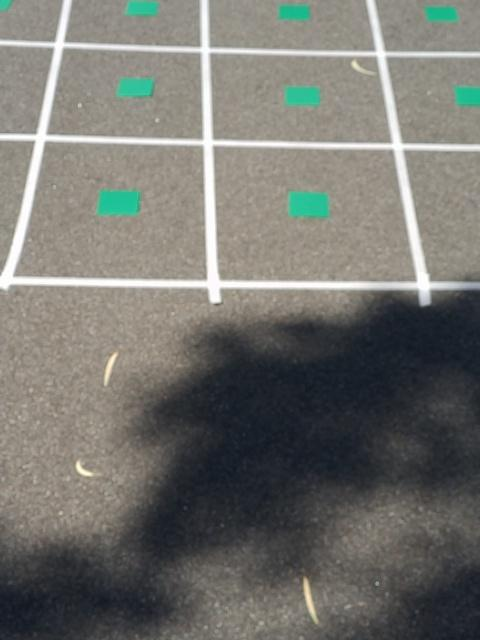weed: (283, 188, 334, 220), (94, 186, 142, 219), (114, 74, 158, 101), (283, 82, 321, 108), (277, 1, 313, 23), (449, 82, 480, 107), (423, 6, 461, 26), (121, 0, 163, 16), (0, 0, 11, 14)
